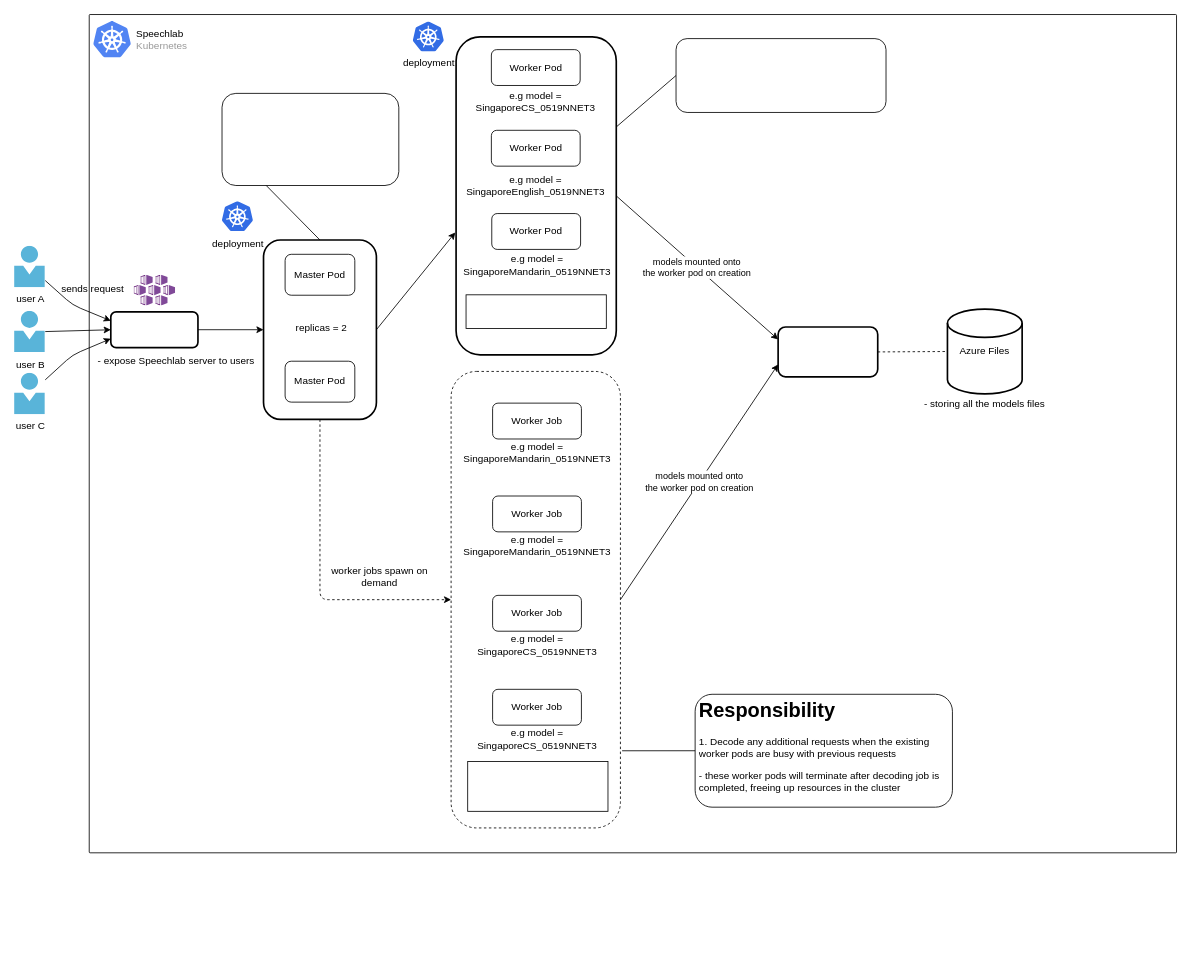
The diagram is 1191 pixels wide and 975 high, and some of its shapes have lost their labels. Here are the shapes that lost their labels. From the top down, the centre of each, then its label:
(780,75): Responsibility 1. Standby to decode any incoming requests
(310,139): Responsibilities 1. Input/Output Transmission 2. Spawn new job workers
(154,329): Master Service (Load Balancer)
(535,311): Fifty worker pods per model
(827,351): Persistent Volume (for models)
(537,786): can have more worker jobs if Kubernetes cluster has enough resources
